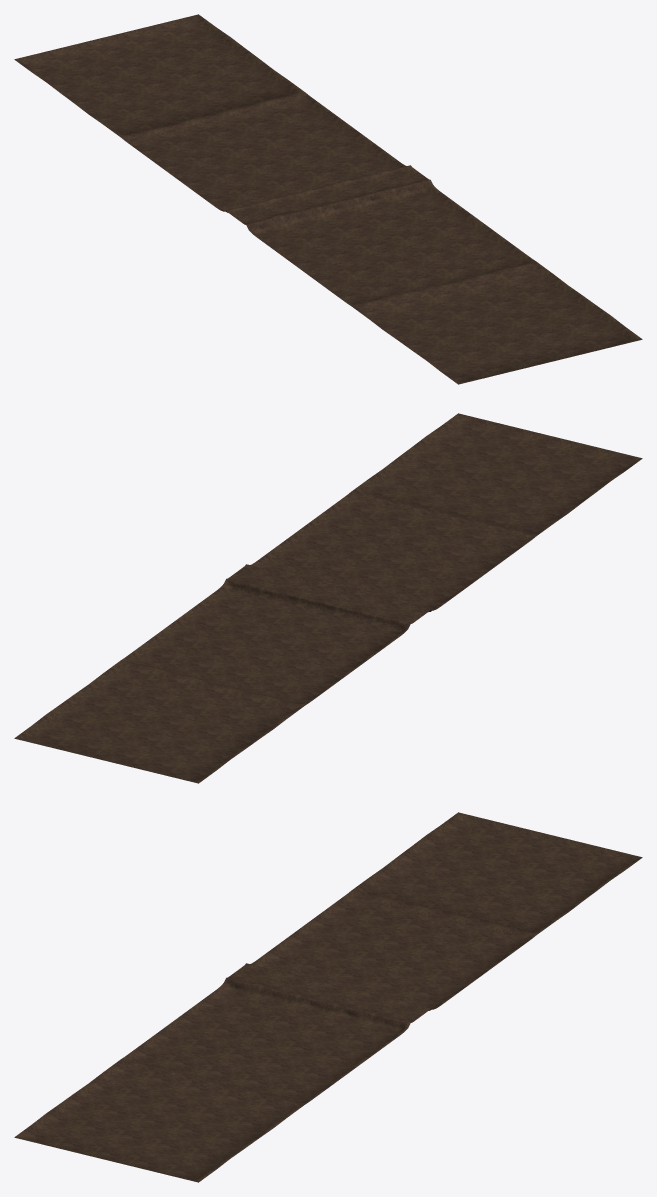
The model's file is RiceField1.fbx.
3 renders of one model, top to bottom at view 1: azimuth 30°, elevation 25°; view 2: azimuth 150°, elevation 25°; view 3: azimuth 330°, elevation 25°, orthographic.
Parts seen in each view (by area): view 1: SM_cmn_mount_RiceField_01a; view 2: SM_cmn_mount_RiceField_01a; view 3: SM_cmn_mount_RiceField_01a.
Boxes of the visible parts, <box> form: SM_cmn_mount_RiceField_01a: <box>14,14,642,384</box>; SM_cmn_mount_RiceField_01a: <box>14,413,642,783</box>; SM_cmn_mount_RiceField_01a: <box>14,812,642,1182</box>.
Size of the model in its own units: 3000 by 136 by 12500.
